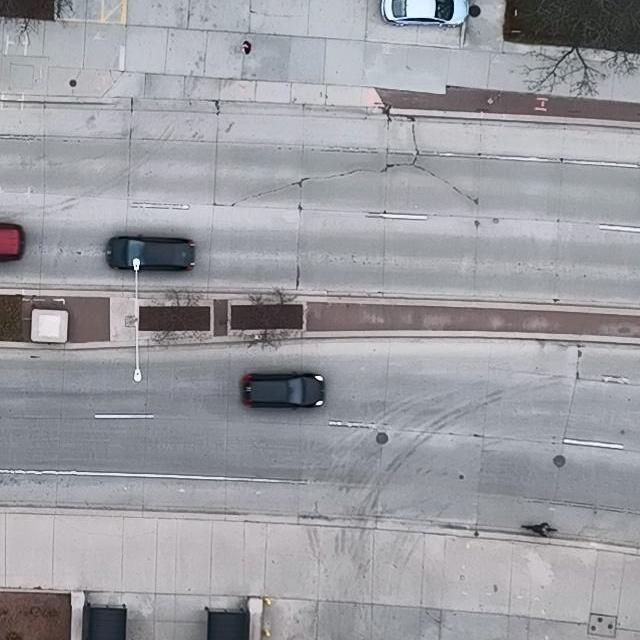car: (237, 370, 325, 411), (105, 235, 195, 274), (378, 0, 468, 26), (0, 222, 25, 262)
